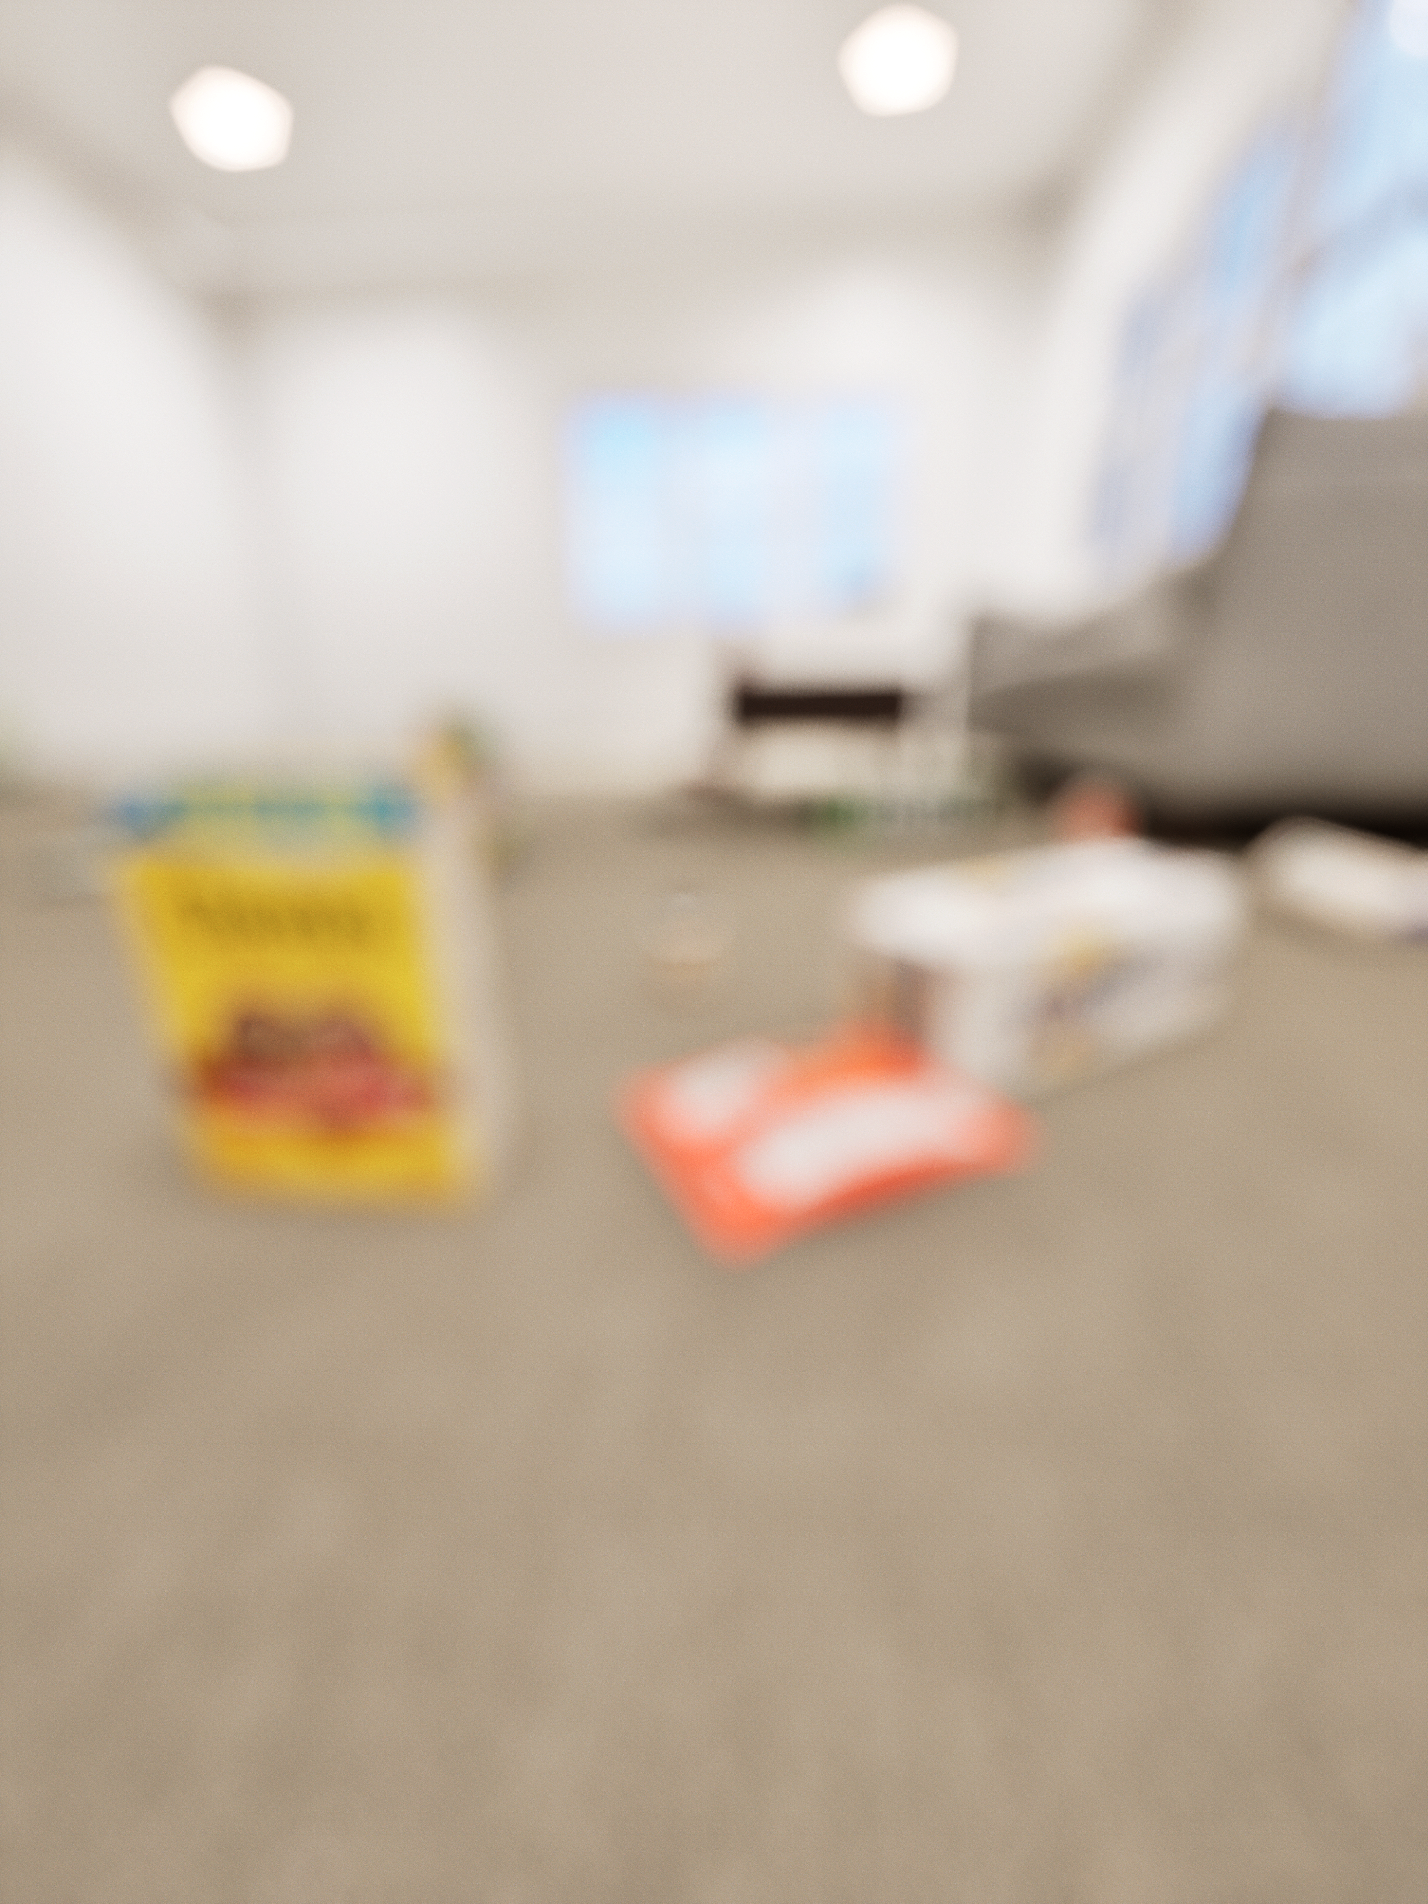cheerios: (88, 765, 502, 1199)
